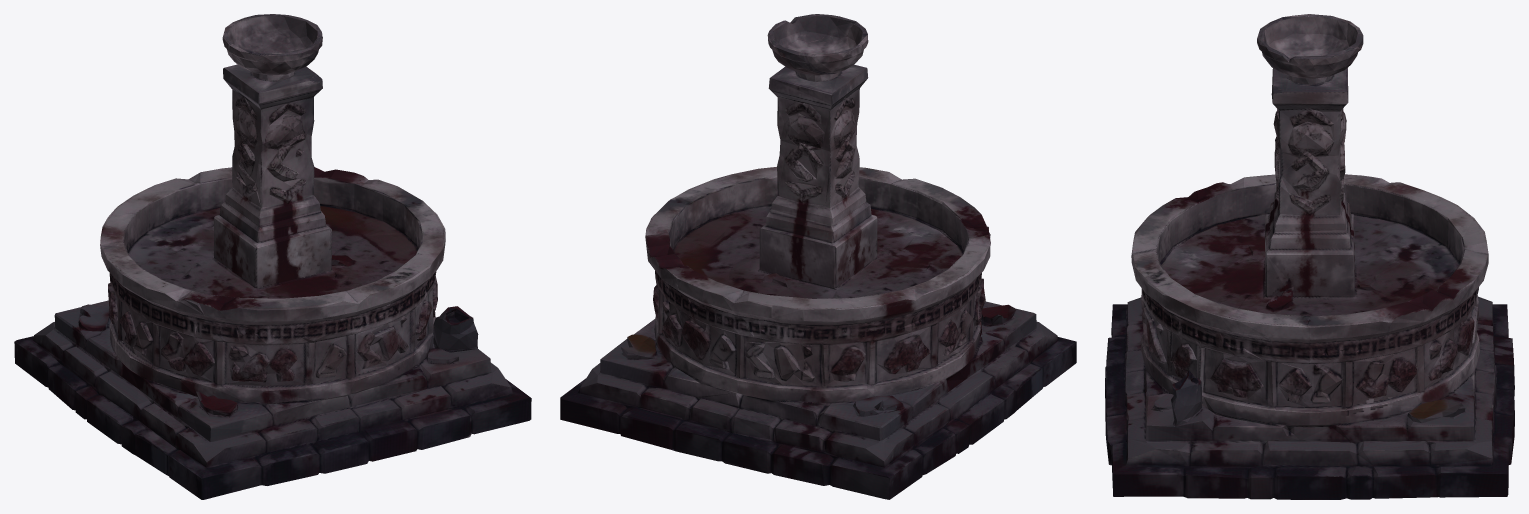
File: fontaine1_LOD1.glb
The picture shows the model from 3 angles, left to right: view 1: azimuth 30°, elevation 25°; view 2: azimuth 150°, elevation 25°; view 3: azimuth 270°, elevation 25°; orthographic projection. The views are drawn at different scales.
Bounding box in the file's own units: 0.9972 × 1 × 0.9836.
Materials: 1 (1 with a texture image).
